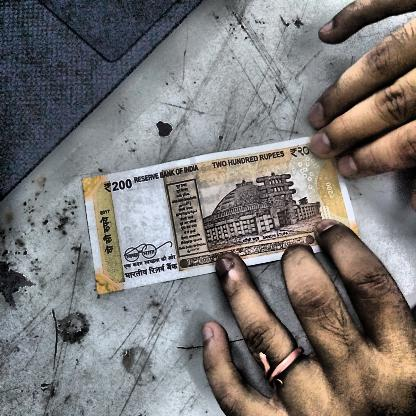Rs200: (101, 177, 135, 197)
